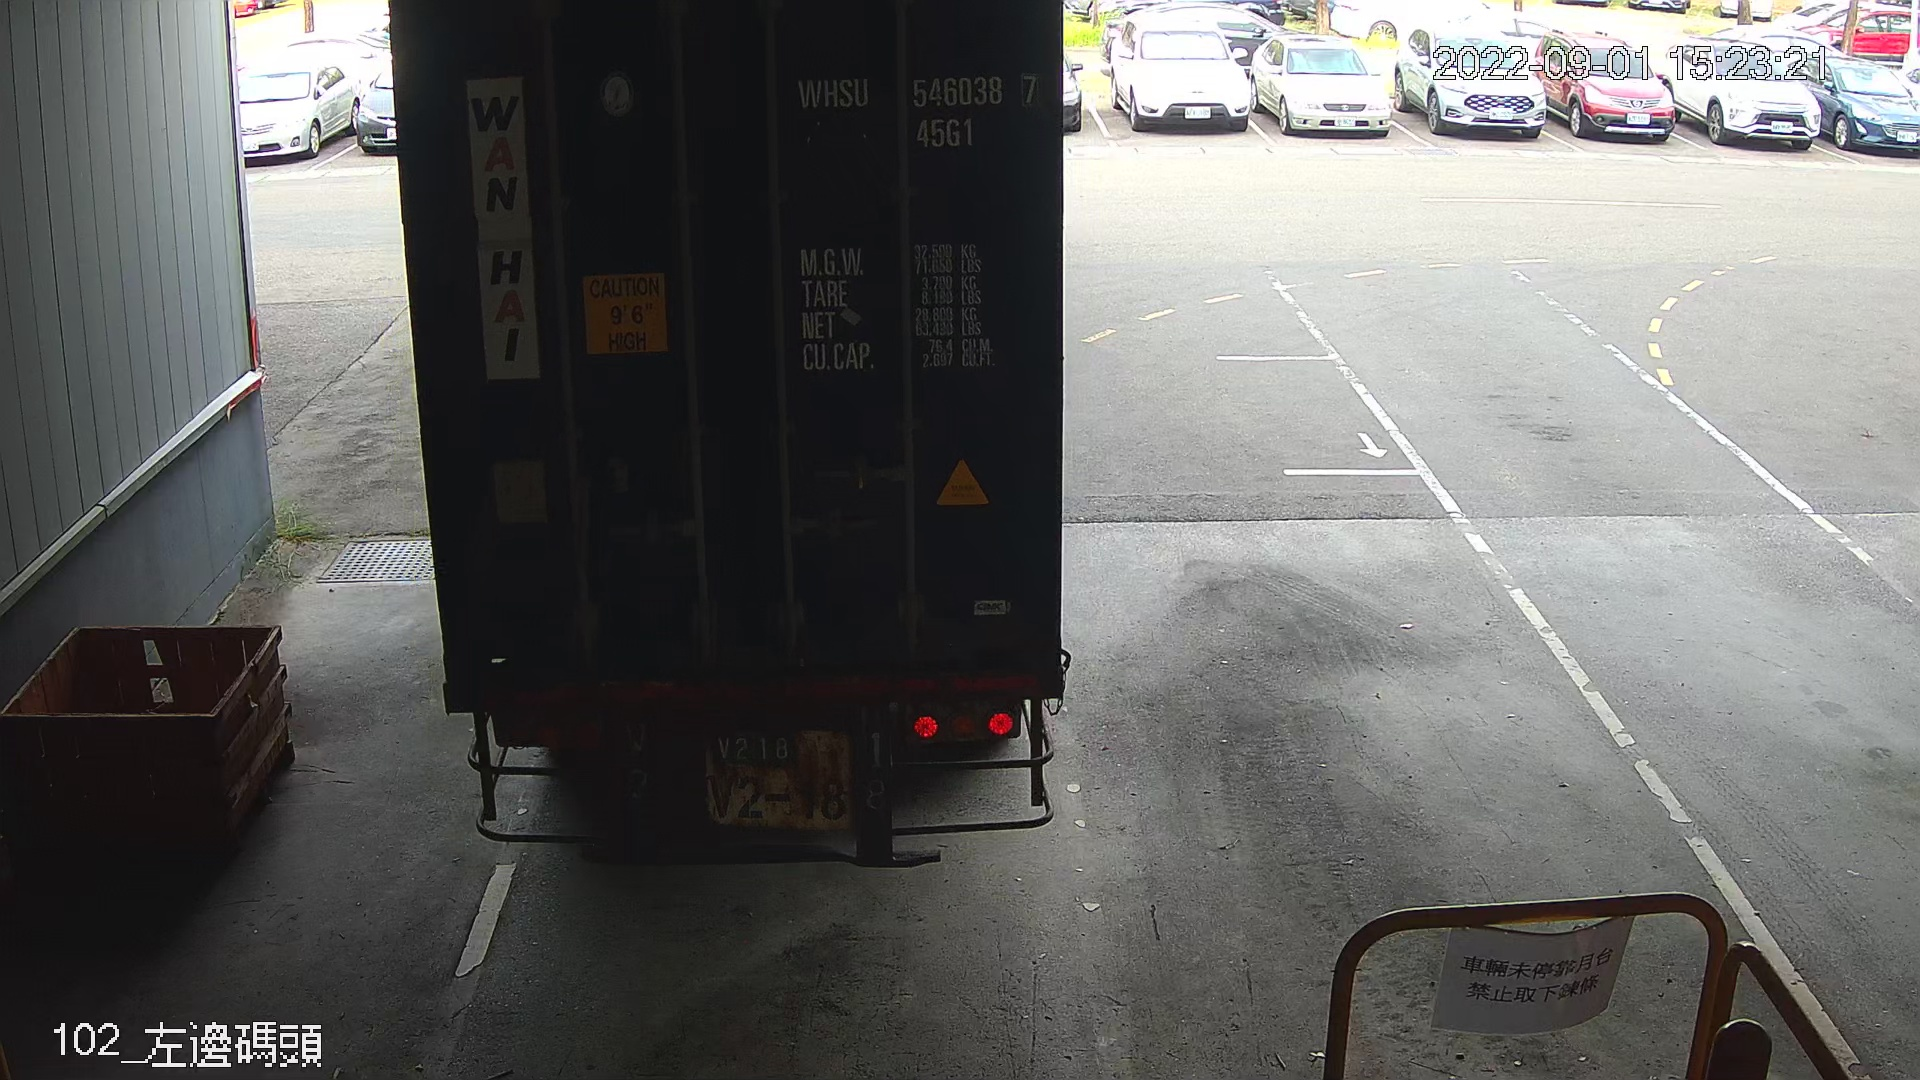container: (787, 63, 1050, 158)
